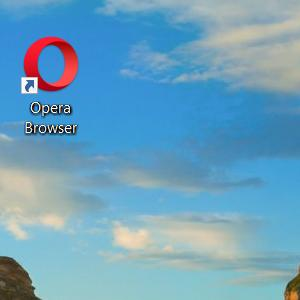opera: (20, 36, 79, 95)
